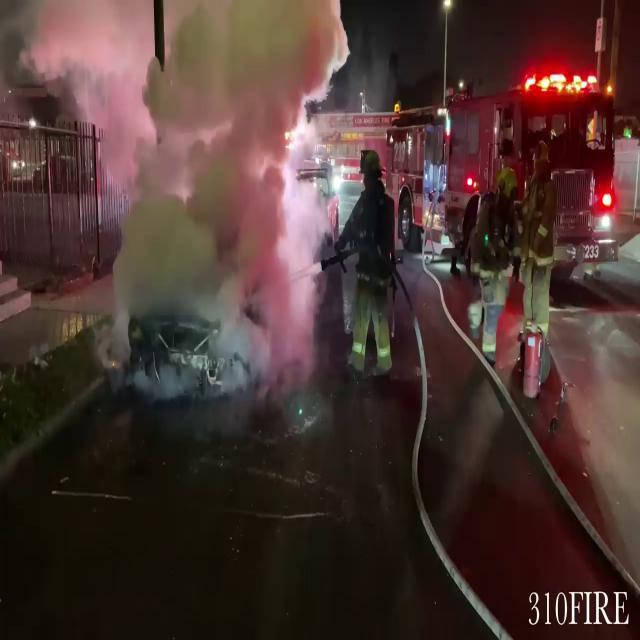Smoke: (102, 0, 342, 412)
